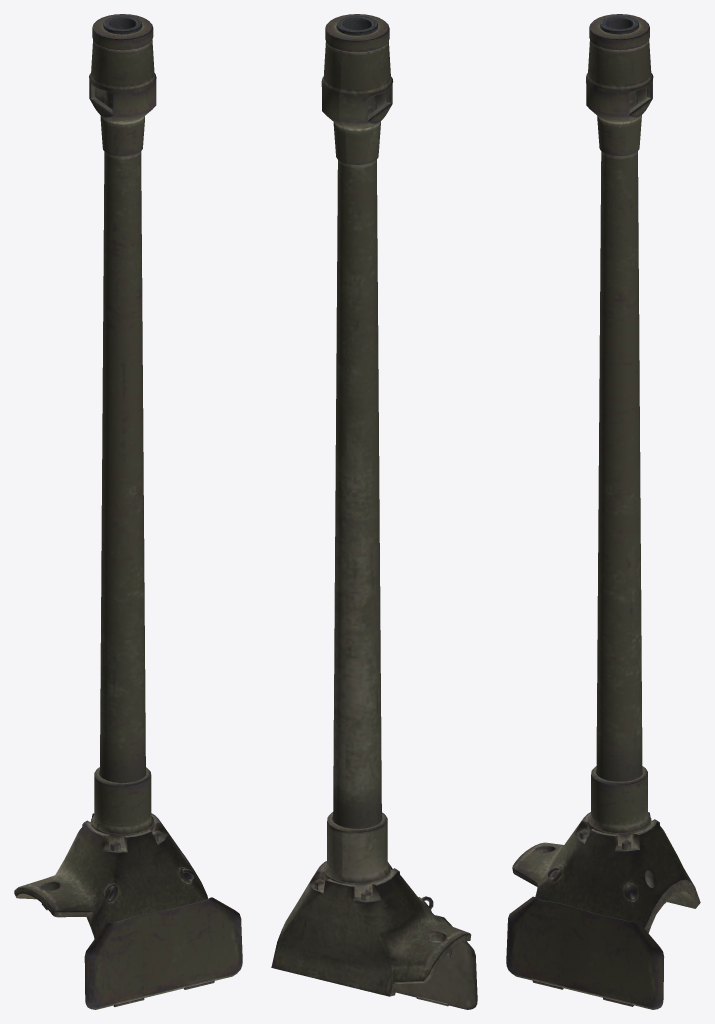
The model's file is Gun_04.glb.
3 renders of one model, left to right at view 1: azimuth 30°, elevation 25°; view 2: azimuth 150°, elevation 25°; view 3: azimuth 330°, elevation 25°, orthographic. The views are drawn at different scales.
Visible parts, largest first — view 1: set_0_group_0; view 2: set_0_group_0; view 3: set_0_group_0.
Boxes of the visible parts, x1=… form: set_0_group_0: x1=14, y1=14, x2=242, y2=1009; set_0_group_0: x1=271, y1=14, x2=477, y2=1009; set_0_group_0: x1=506, y1=14, x2=700, y2=1009.
Size of the model in its own units: 0.929 by 4.92 by 0.6257.
1 material, 1 textured.
